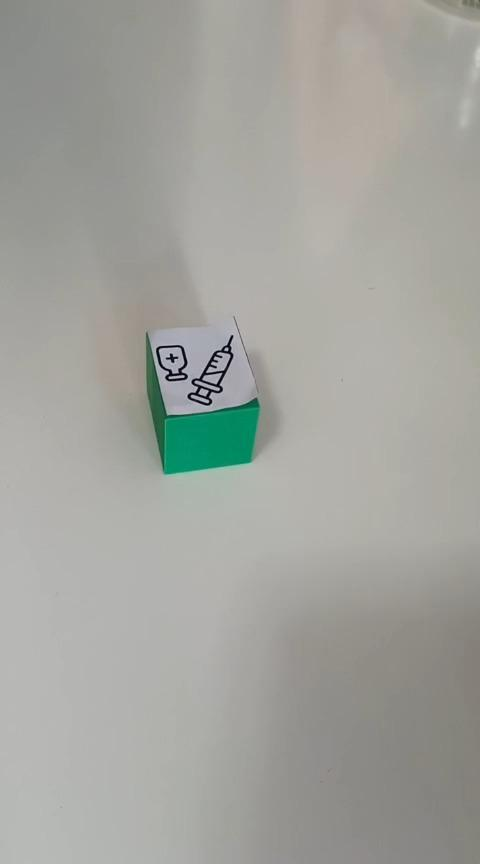antiseptic cream: (143, 314, 261, 475)
